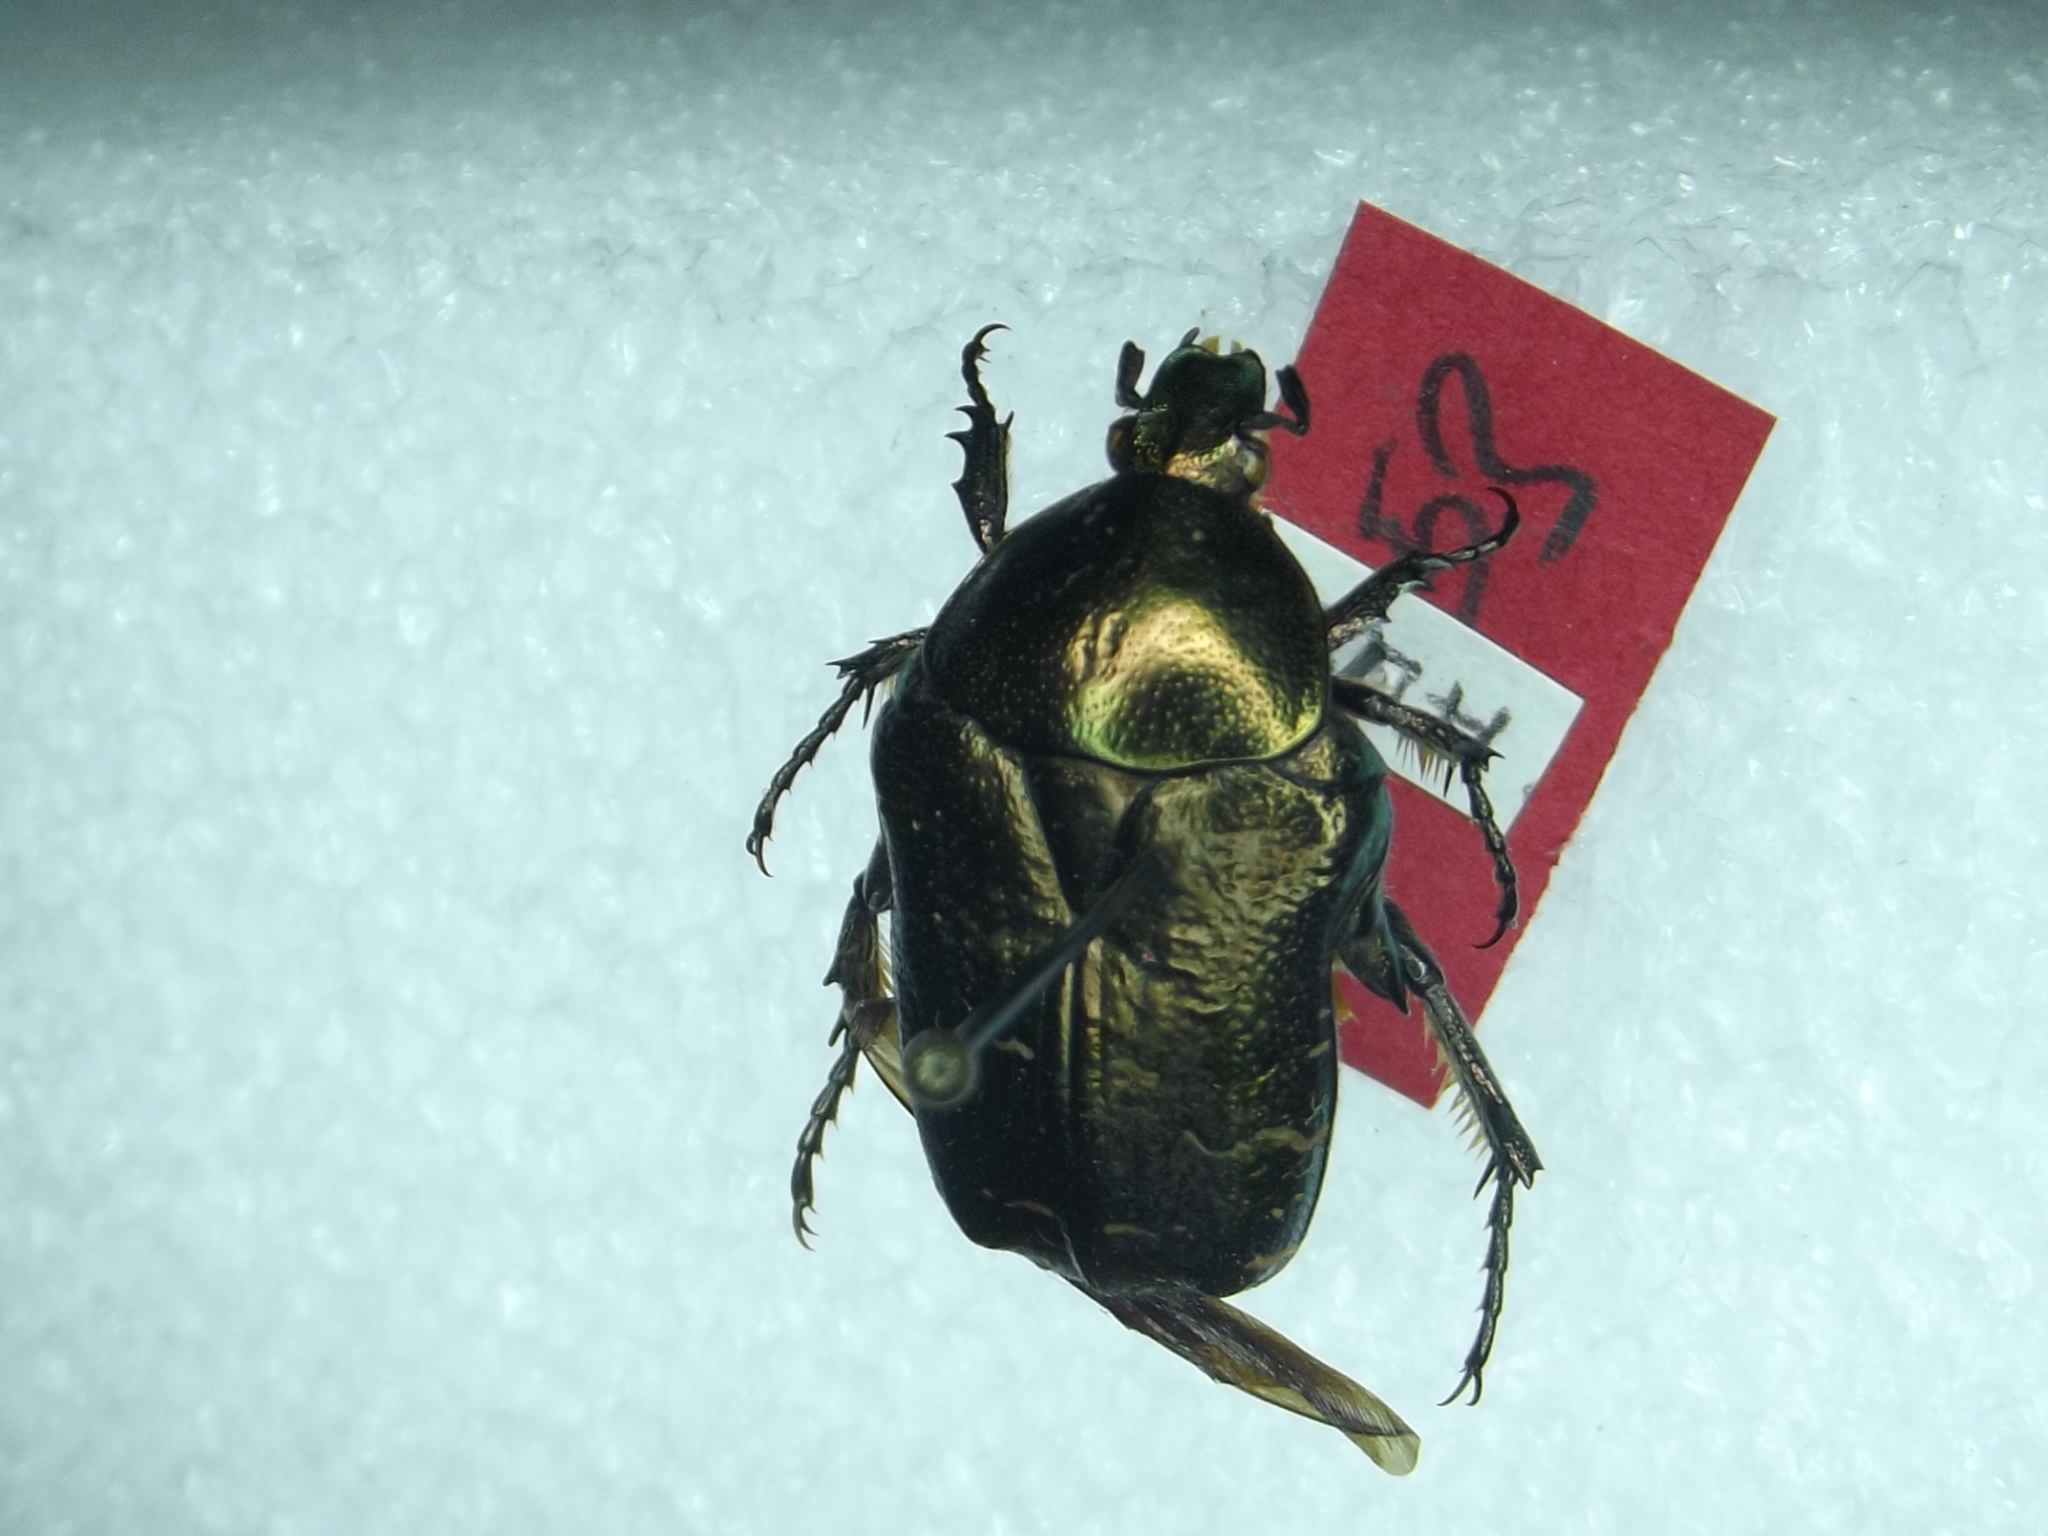Cetonia_kemali: (743, 303, 1546, 1470)
